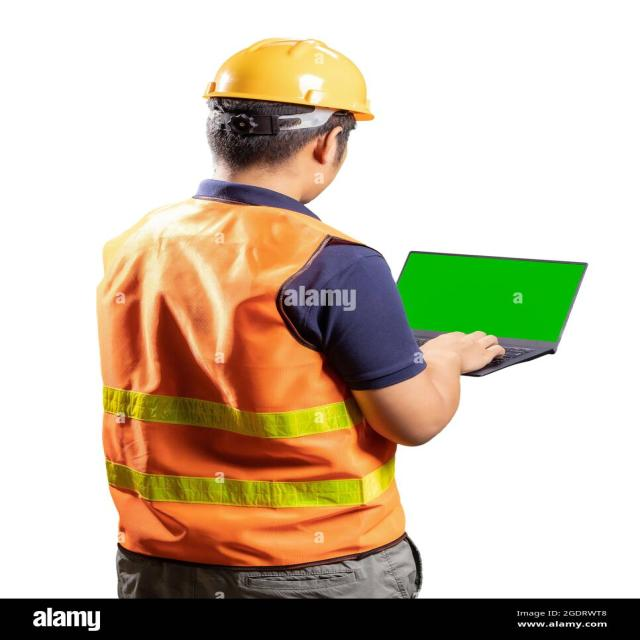helmet: (200, 32, 381, 123)
vest: (95, 192, 418, 573)
